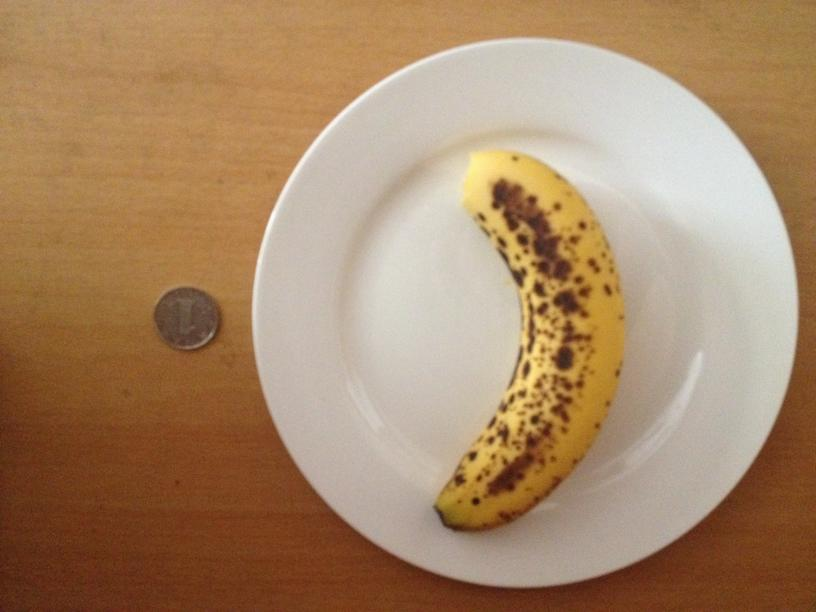banana: (426, 142, 621, 529)
coin: (150, 284, 221, 351)
